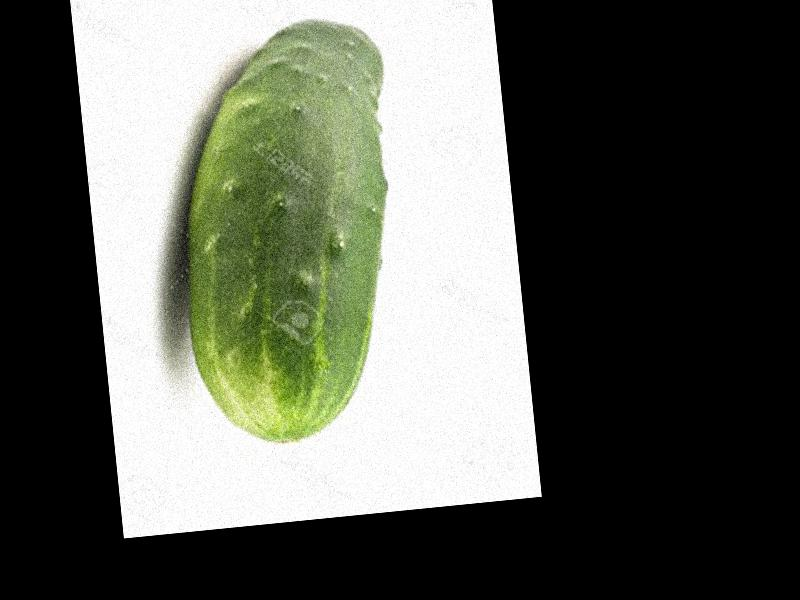Cucumber: (158, 12, 419, 451)
